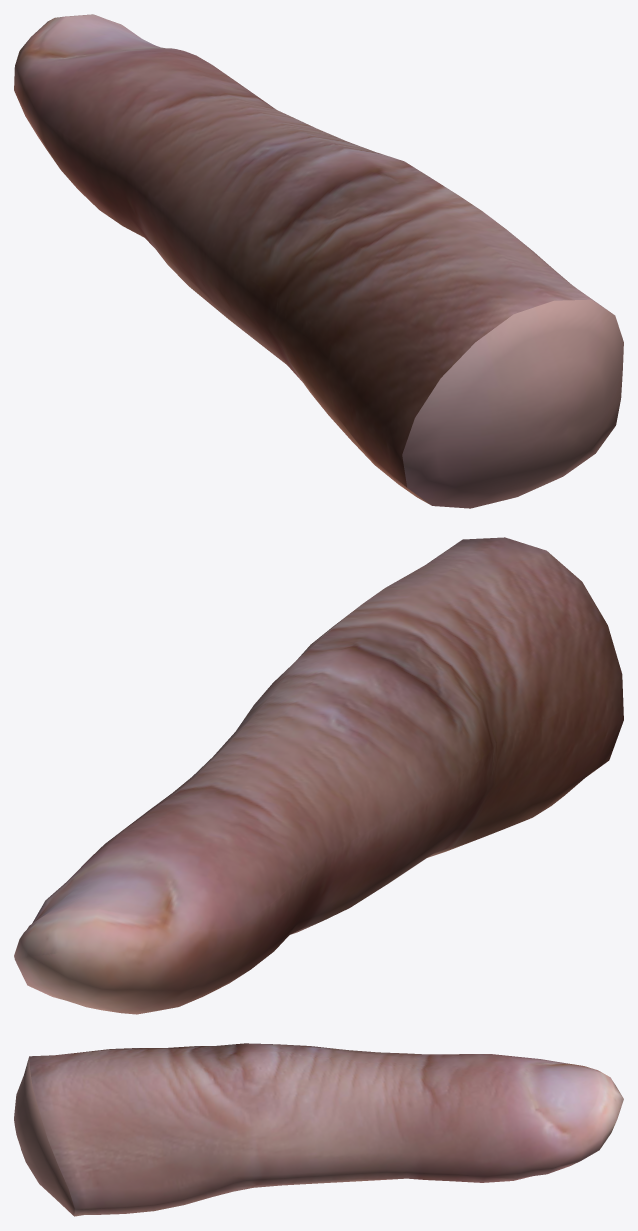
File: yubi.glb
The picture shows the model from 3 angles, top to bottom: view 1: azimuth 30°, elevation 25°; view 2: azimuth 150°, elevation 25°; view 3: azimuth 270°, elevation 25°; orthographic projection. The views are drawn at different scales.
Visible parts, largest first — view 1: Male_hand_40plus.001; view 2: Male_hand_40plus.001; view 3: Male_hand_40plus.001.
Boxes of the visible parts, x1,y1,x2,y2 form: Male_hand_40plus.001: [14, 14, 623, 508]; Male_hand_40plus.001: [14, 537, 623, 1014]; Male_hand_40plus.001: [14, 1043, 623, 1216].
Size of the model in its own units: 0.8183 by 0.7792 by 2.86.
Materials: 1 (1 with a texture image).
